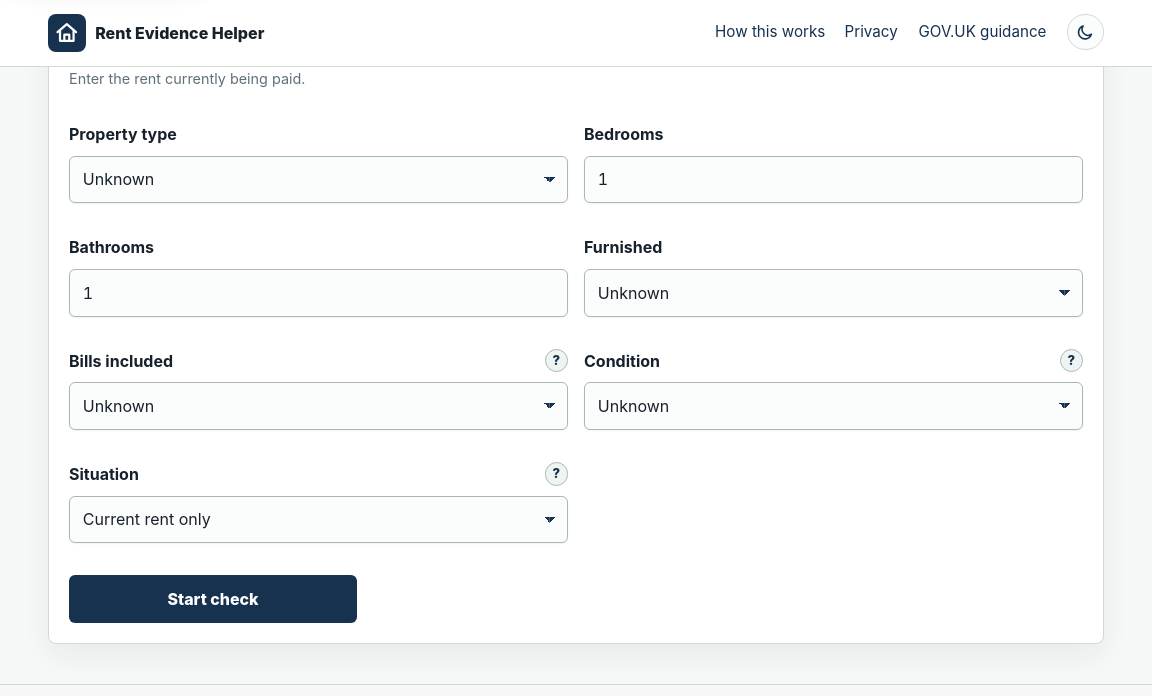
it: App › shows accessible contextual help for selected form fields
(page scrolled)
Click the button named "more about bills included".
click(556, 361)  # box [545,349,568,372]
(page scrolled)
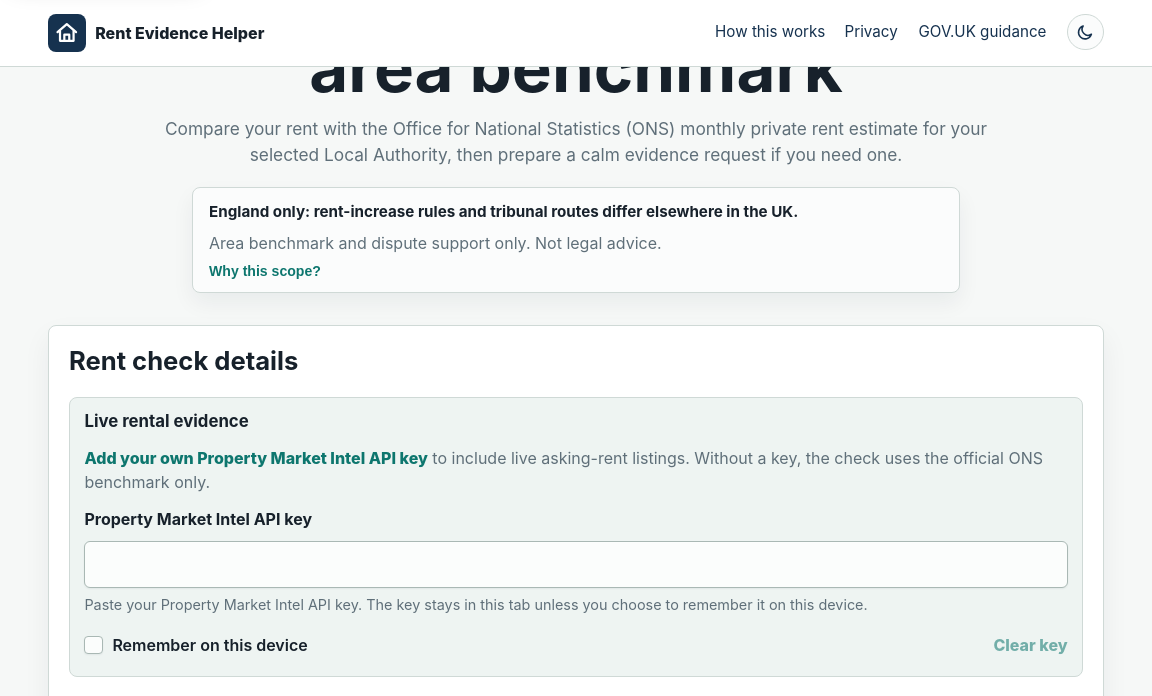
Click the heading "Rent check details".
click(184, 361)  # box [69,345,298,376]
(page scrolled)
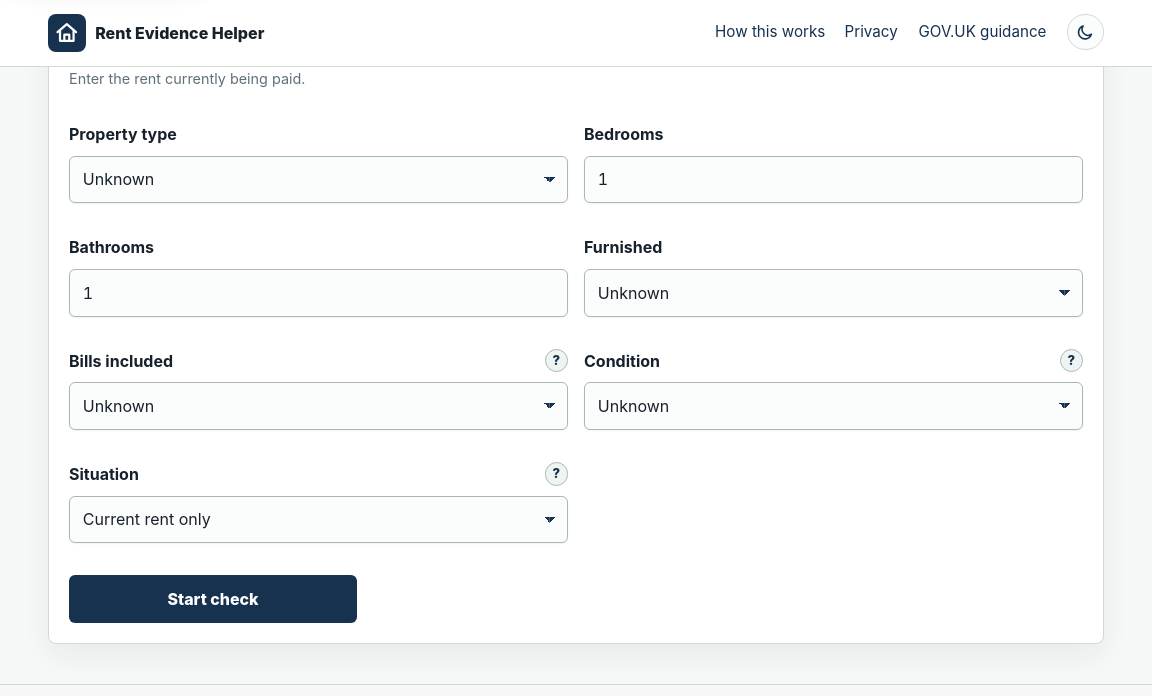
Check: the button "?" in the row of "Bills included" is collapsed
Click the button "?" in the row of "Bills included".
click(556, 361)  # box [545,349,568,372]
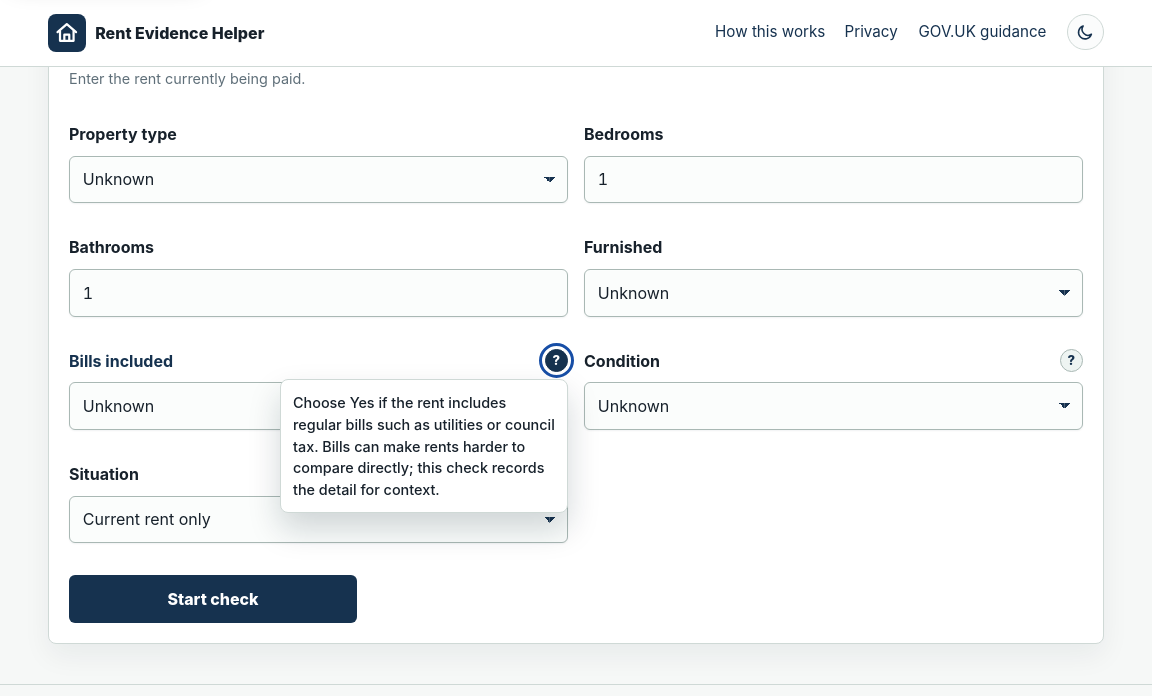
Check: the button "?" in the row of "Bills included" is expanded, box [545,349,568,372]
Press Escape
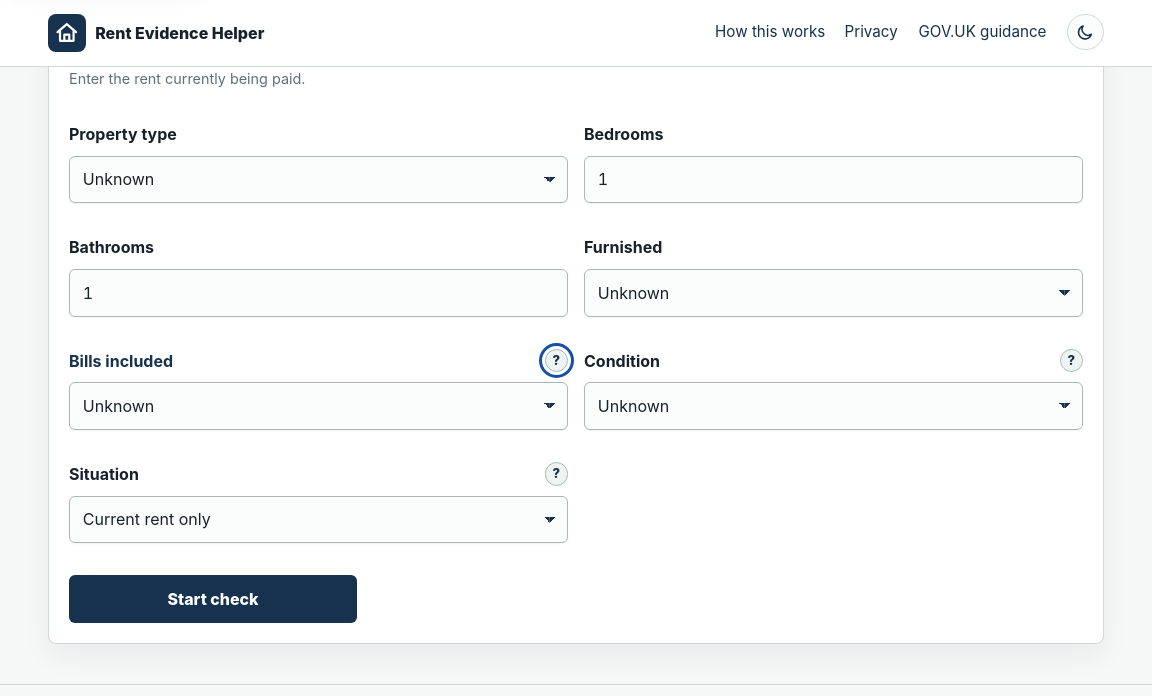
Check: the button "?" in the row of "Bills included" is collapsed, box [545,349,568,372]
Check: the tooltip "bills can make rents harder to compare directly" is gone
